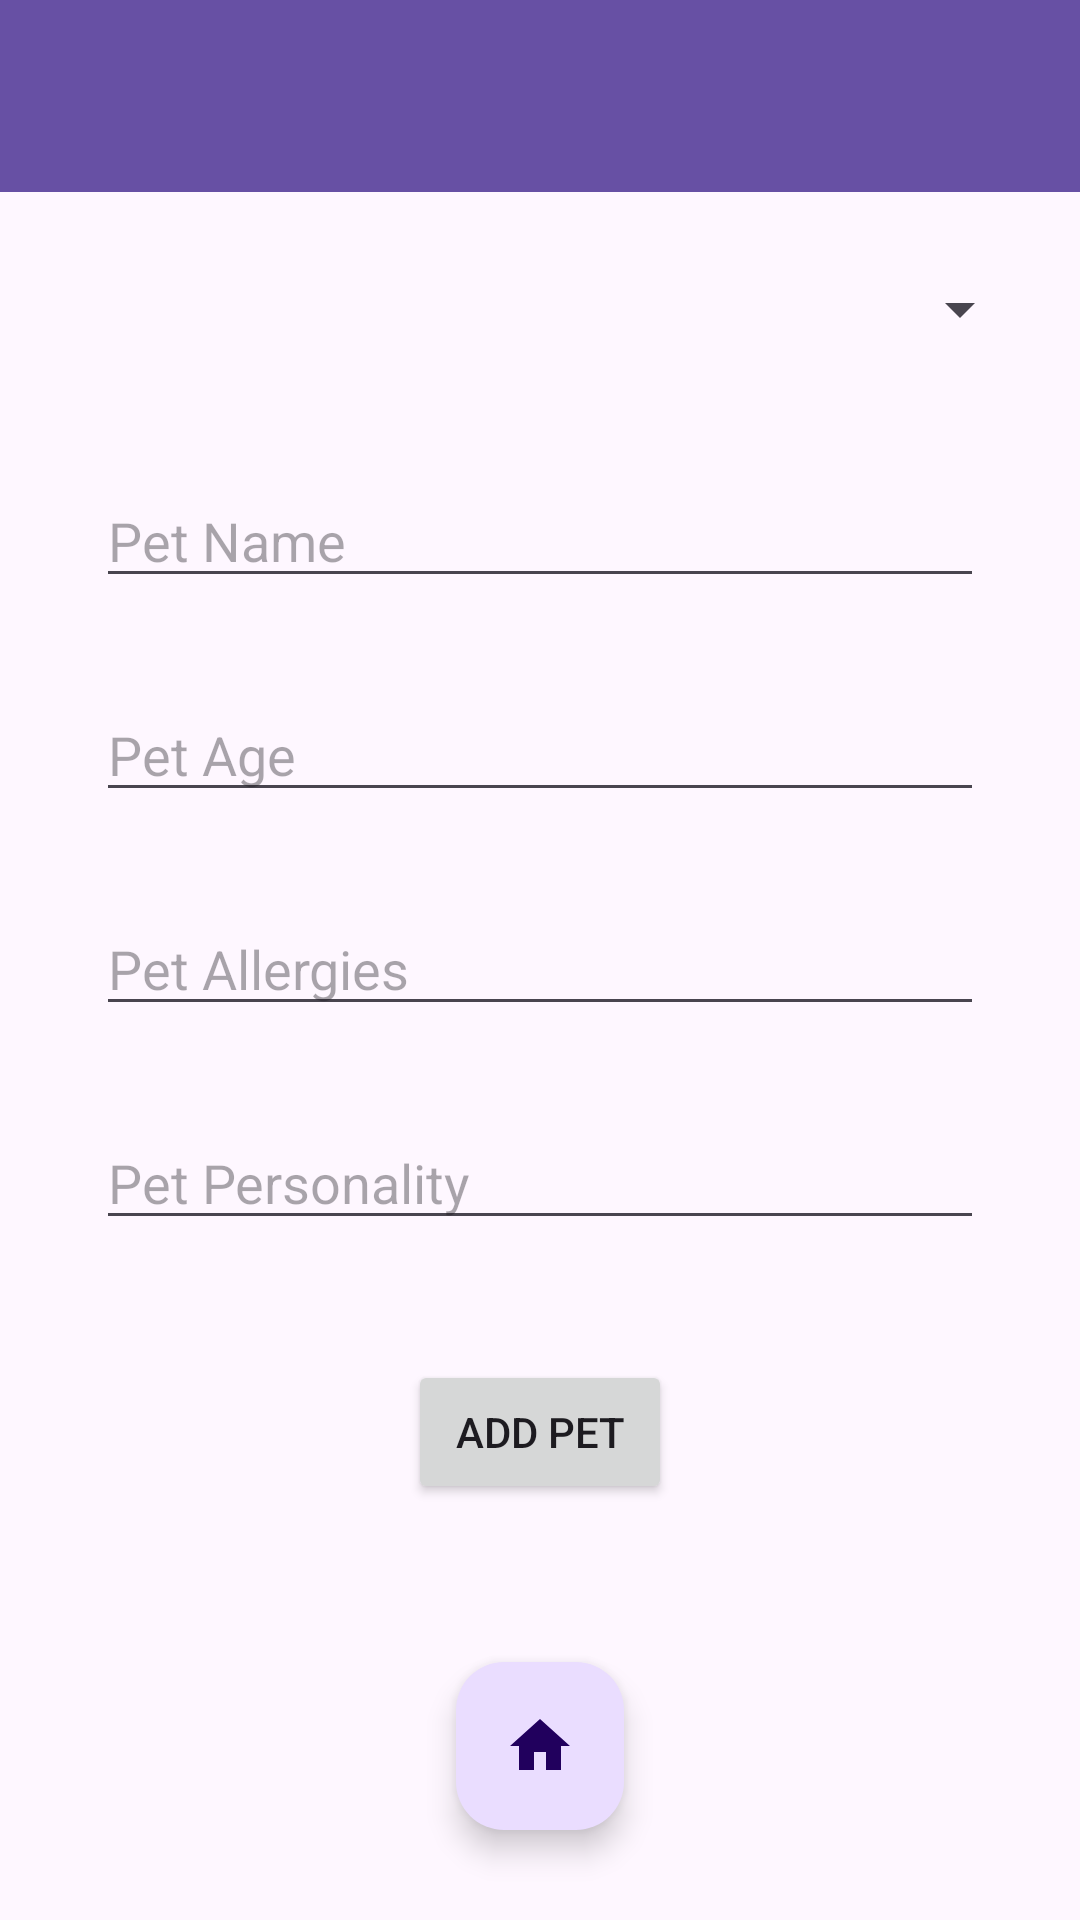

Icons on this 1080x1920 Android screen, each with its box as detection(x1, y1, x2, y2):
home: detection(456, 1662, 624, 1830)
